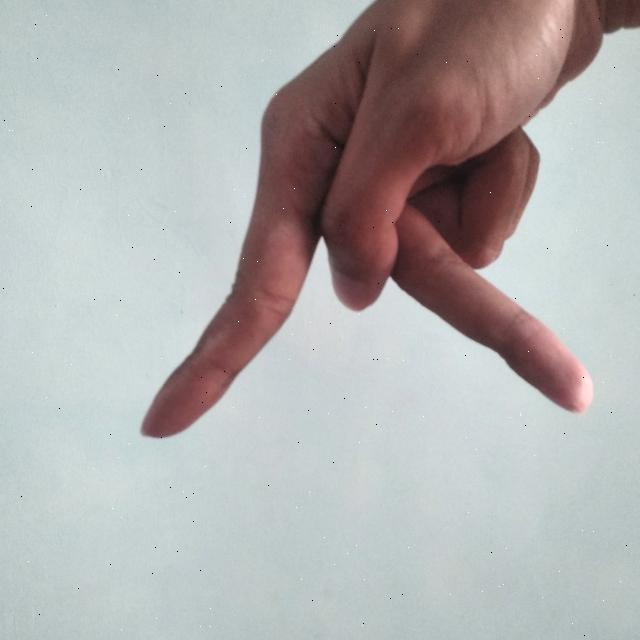P: (124, 0, 618, 458)
